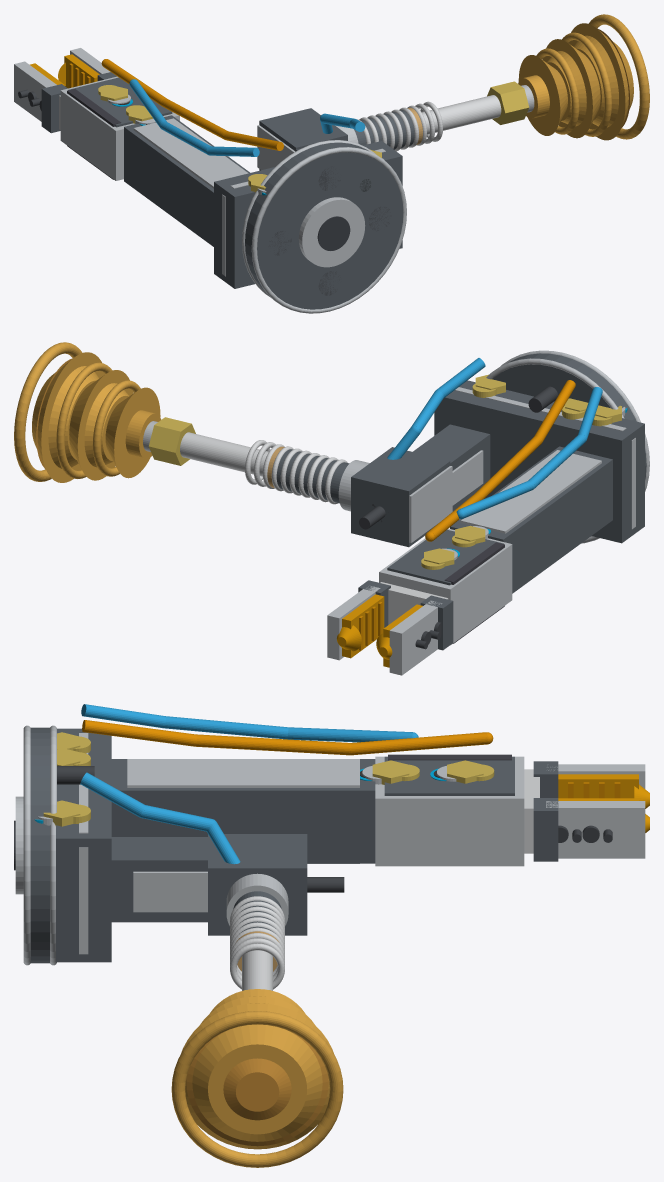
File: robot_dual_tool_gripper_vacuum.glb
The picture shows the model from 3 angles, top to bottom: view 1: azimuth 30°, elevation 25°; view 2: azimuth 150°, elevation 25°; view 3: azimuth 270°, elevation 25°; orthographic projection. The views are drawn at different scales.
Parts seen in each view (by area): view 1: subpart_002, subpart_041, subpart_023, subpart_049, subpart_000, subpart_042, subpart_003, subpart_100, subpart_132, subpart_126, subpart_133, subpart_129 (+22 smaller); view 2: subpart_023, subpart_041, subpart_100, subpart_049, subpart_042, subpart_002, subpart_132, subpart_126, subpart_092, subpart_066, subpart_101, subpart_050 (+28 smaller); view 3: subpart_041, subpart_049, subpart_132, subpart_023, subpart_042, subpart_133, subpart_100, subpart_092, subpart_134, subpart_002, subpart_073, subpart_093 (+25 smaller).
Part boxes in pixels (left/top/right/bottom): subpart_002: left=245, top=142, right=403, bottom=309; subpart_041: left=124, top=115, right=250, bottom=246; subpart_023: left=214, top=141, right=402, bottom=288; subpart_049: left=60, top=76, right=179, bottom=180; subpart_000: left=298, top=197, right=365, bottom=267; subpart_042: left=133, top=118, right=248, bottom=188; subpart_003: left=251, top=147, right=406, bottom=313; subpart_100: left=259, top=108, right=347, bottom=170; subpart_132: left=568, top=23, right=633, bottom=140; subpart_126: left=518, top=55, right=567, bottom=135; subpart_133: left=588, top=14, right=649, bottom=139; subpart_129: left=543, top=39, right=600, bottom=138; subpart_023: left=434, top=380, right=644, bottom=543; subpart_041: left=450, top=446, right=612, bottom=593; subpart_100: left=351, top=447, right=450, bottom=547; subpart_049: left=379, top=528, right=512, bottom=645; subpart_042: left=460, top=450, right=601, bottom=533; subpart_002: left=492, top=353, right=646, bottom=536; subpart_132: left=32, top=352, right=104, bottom=482; subpart_126: left=105, top=387, right=160, bottom=478; subpart_092: left=413, top=424, right=490, bottom=511; subpart_066: left=389, top=600, right=442, bottom=675; subpart_101: left=409, top=466, right=452, bottom=542; subpart_050: left=387, top=529, right=503, bottom=585; subpart_041: left=111, top=759, right=375, bottom=863; subpart_049: left=375, top=756, right=524, bottom=866; subpart_132: left=181, top=1003, right=334, bottom=1149; subpart_023: left=56, top=728, right=111, bottom=962; subpart_042: left=127, top=759, right=359, bottom=863; subpart_133: left=171, top=1011, right=343, bottom=1167; subpart_100: left=208, top=834, right=307, bottom=935; subpart_092: left=111, top=837, right=207, bottom=922; subpart_134: left=186, top=1029, right=328, bottom=1146; subpart_002: left=30, top=727, right=49, bottom=963; subpart_073: left=546, top=801, right=645, bottom=858; subpart_093: left=133, top=871, right=207, bottom=912.
Size of the model in its own units: 0.2349 by 0.0774 by 0.205.
